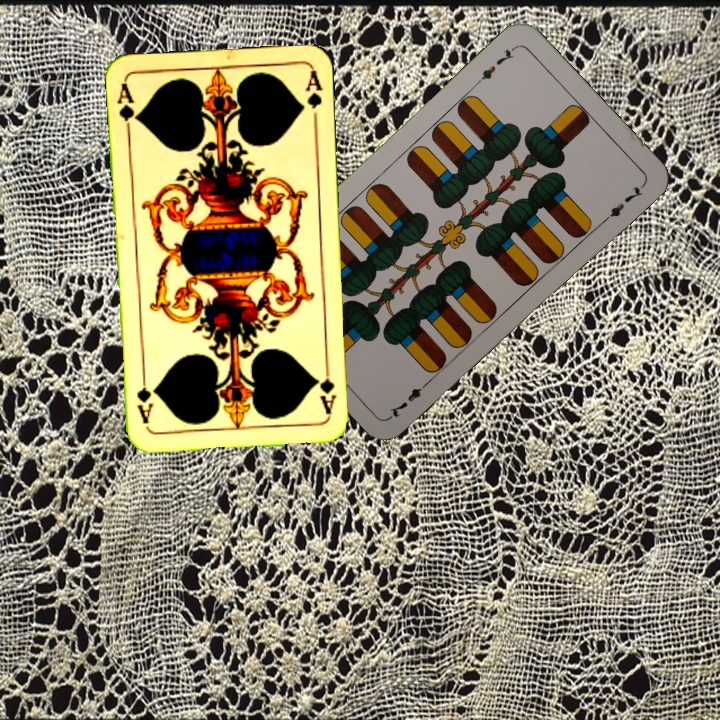E7: (472, 42, 519, 88), (385, 375, 433, 420)
GA: (113, 79, 141, 138), (315, 358, 339, 417)
